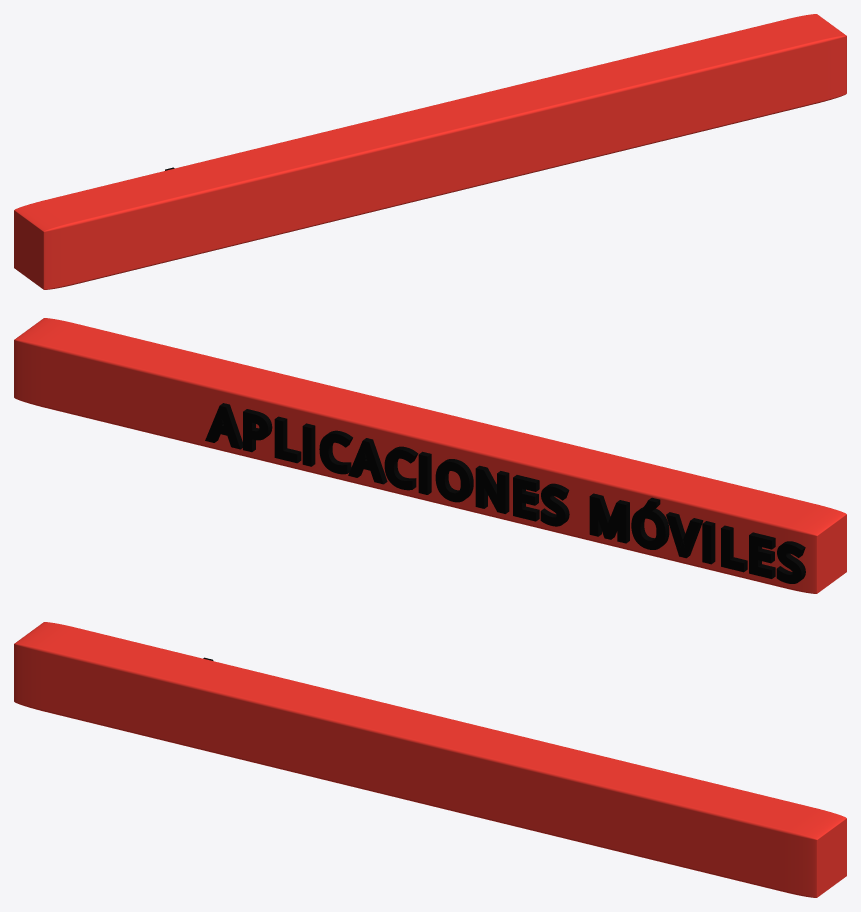
The model's file is apps.glb.
The picture shows the model from 3 angles, top to bottom: view 1: azimuth 30°, elevation 25°; view 2: azimuth 150°, elevation 25°; view 3: azimuth 330°, elevation 25°; orthographic projection.
Visible parts, largest first — view 1: Box; view 2: Box, 3D Text - E (×2), 3D Text - S (×2), 3D Text - A (×2), 3D Text - C (×2), 3D Text - I (×3), 3D Text - M, 3D Text - L (×2), 3D Text - N, 3D Text - Ó, 3D Text - O, 3D Text - V (+1 smaller); view 3: Box.
Part boxes in pixels (<box>): Box: <box>14,14,846,289</box>; Box: <box>14,318,846,593</box>; 3D Text - E (×2): <box>513,475,775,578</box>; 3D Text - S (×2): <box>540,483,805,583</box>; 3D Text - A (×2): <box>205,403,387,484</box>; 3D Text - C (×2): <box>319,430,418,490</box>; 3D Text - I (×3): <box>302,423,715,564</box>; 3D Text - M: <box>589,493,629,543</box>; 3D Text - L (×2): <box>274,416,747,572</box>; 3D Text - N: <box>475,465,509,513</box>; 3D Text - Ó: <box>631,497,669,549</box>; 3D Text - O: <box>435,459,473,502</box>; 3D Text - V: <box>666,512,703,558</box>; Box: <box>14,622,846,897</box>.
Bounding box in the file's own units: 1.45 × 0.1081 × 0.1119.
